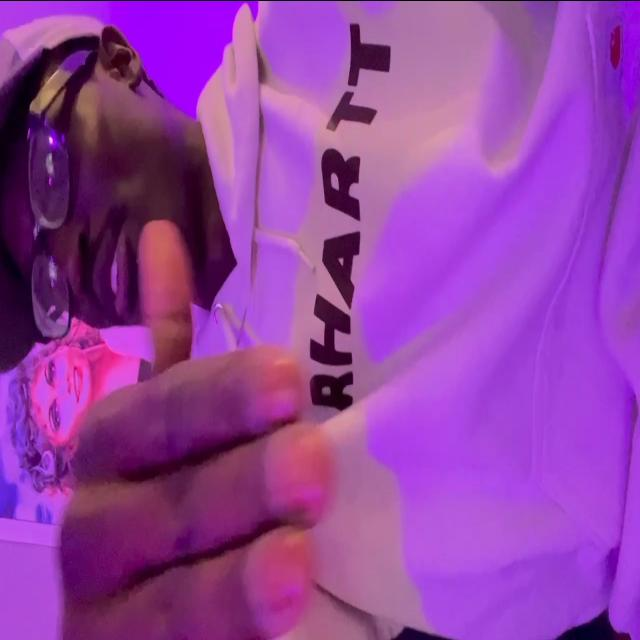Paper: (57, 216, 331, 640)
